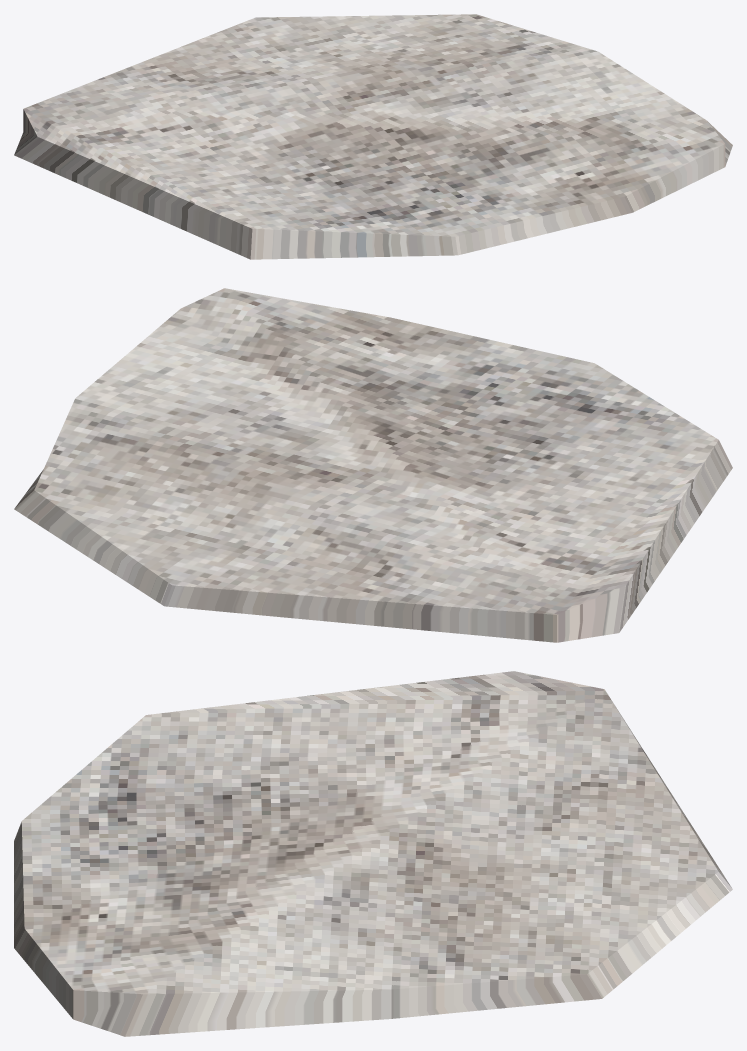
Rendered from pedra1.fbx.
The picture shows the model from 3 angles, top to bottom: view 1: azimuth 30°, elevation 25°; view 2: azimuth 150°, elevation 25°; view 3: azimuth 270°, elevation 25°; orthographic projection. The views are drawn at different scales.
Visible parts, largest first — view 1: Plane; view 2: Plane; view 3: Plane.
Part boxes in pixels (x1,y1,x2,y2): Plane: (14,14,732,259); Plane: (14,288,732,642); Plane: (14,671,732,1036).
Size of the model in its own units: 47.21 by 2.23 by 42.56.
Materials: 1 (1 with a texture image).
